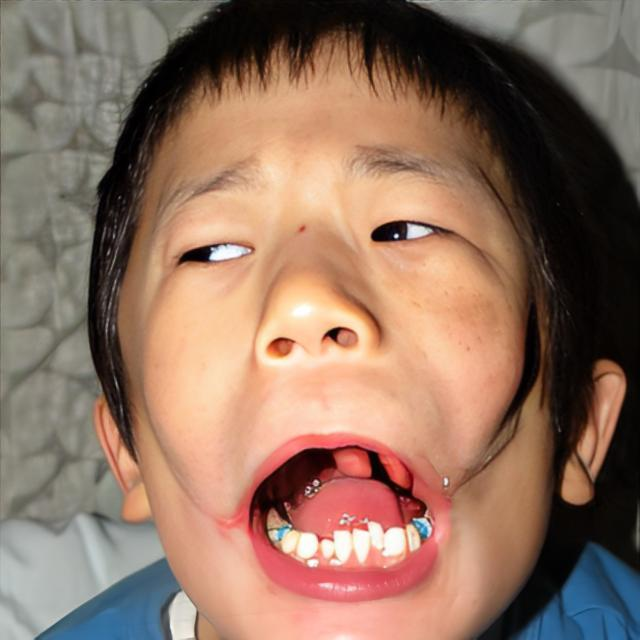fear: (114, 25, 556, 638)
